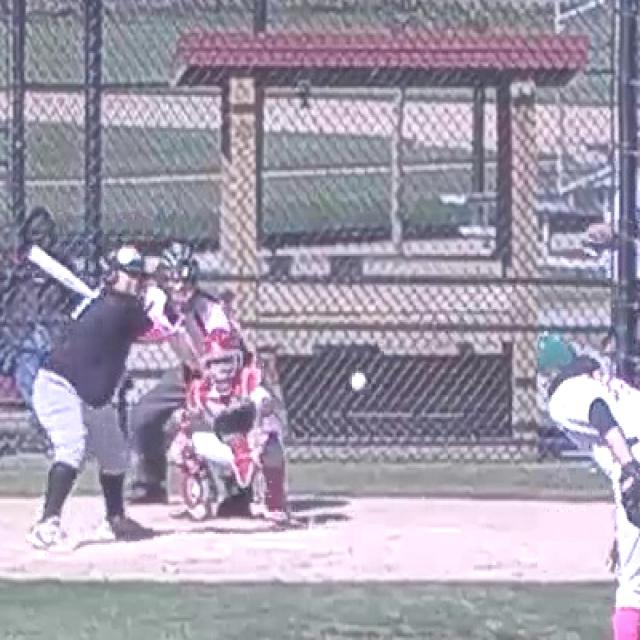baseball: (351, 374, 365, 389)
